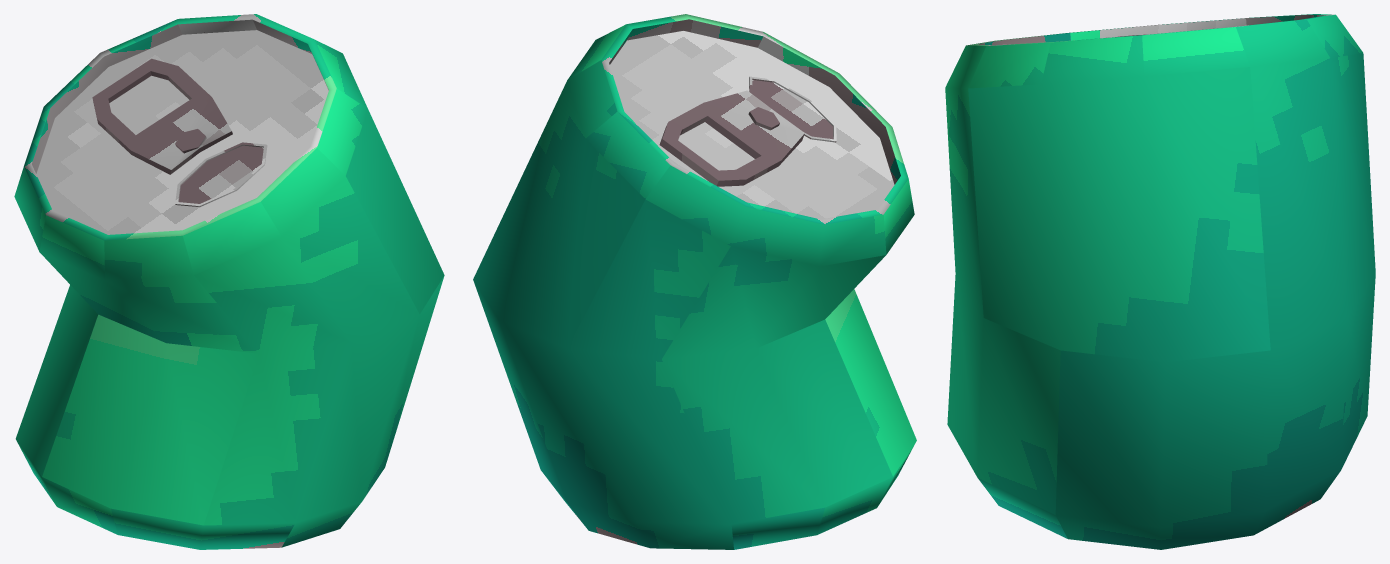
File: drink_cans.glb
3 views of the same model, side by side, from view 1: azimuth 30°, elevation 25°; view 2: azimuth 150°, elevation 25°; view 3: azimuth 270°, elevation 25° (orthographic). The views are drawn at different scales.
Visible parts, largest first — view 1: mesh; view 2: mesh; view 3: mesh.
Part boxes in pixels (box(x1,y1,x2,y2)): mesh: box(14, 14, 444, 549); mesh: box(473, 14, 916, 549); mesh: box(945, 14, 1375, 549).
Bounding box in the file's own units: 0.0958 × 0.105 × 0.0824.
1 material, 1 textured.
